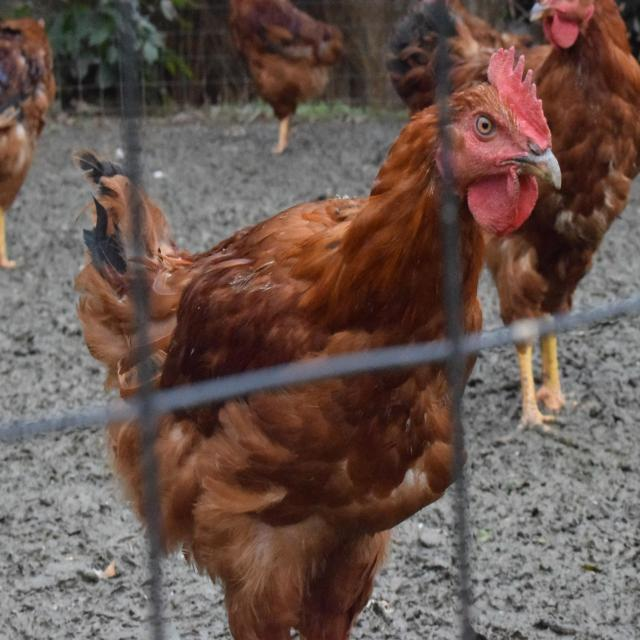cook: (117, 106, 477, 390), (142, 361, 486, 640), (441, 46, 573, 333), (68, 149, 142, 399)
